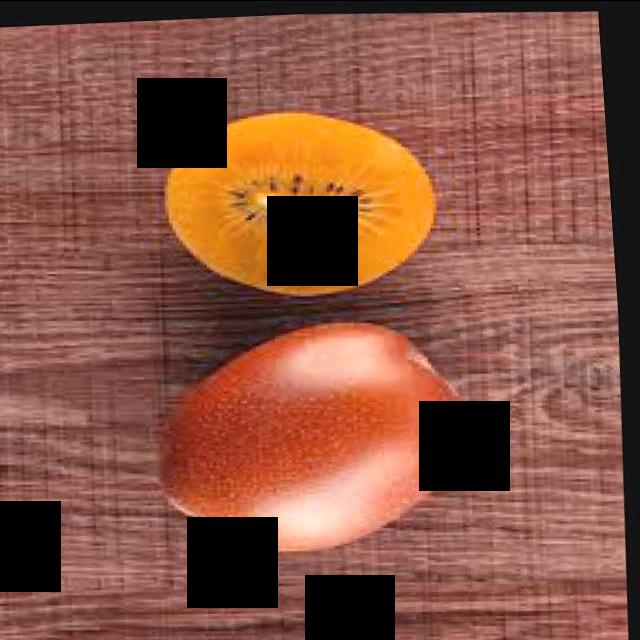kiwi: (158, 313, 491, 562)
